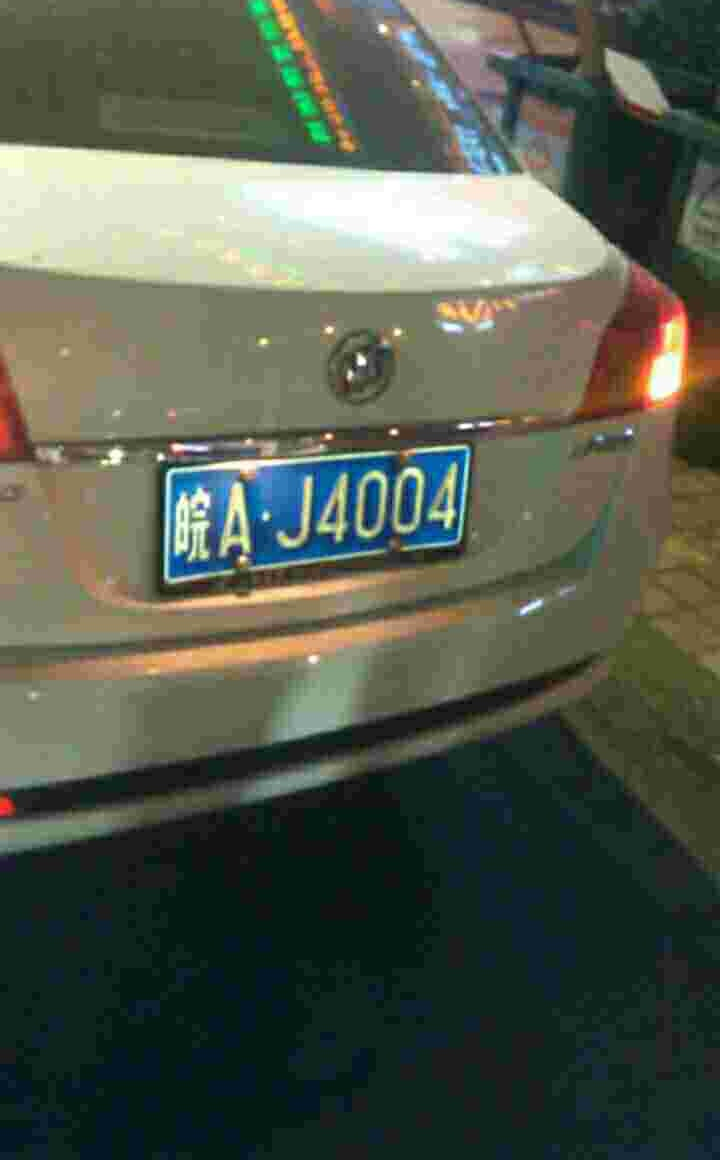license_plate: (164, 454, 482, 577)
